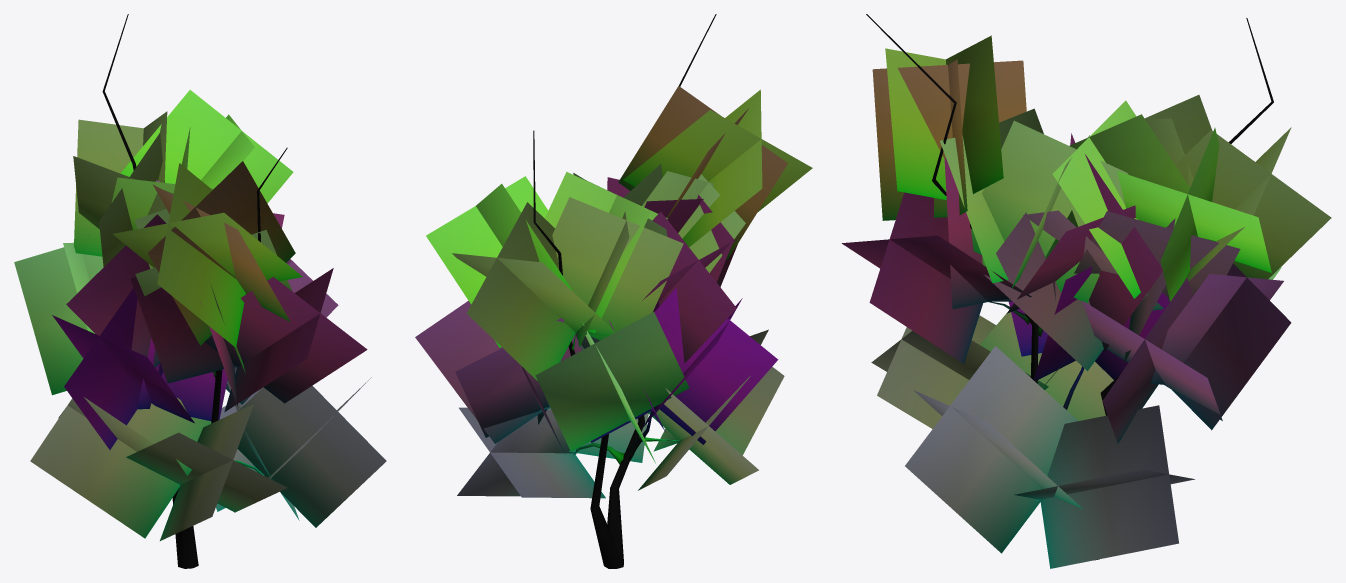
File: URP_P12_Tree_15_LOD_3.fbx
3 renders of one model, left to right at view 1: azimuth 30°, elevation 25°; view 2: azimuth 150°, elevation 25°; view 3: azimuth 270°, elevation 25°, orthographic. The views are drawn at different scales.
Parts seen in each view (by area): view 1: Tree_15_LOD_3; view 2: Tree_15_LOD_3; view 3: Tree_15_LOD_3.
Part boxes in pixels (x1,y1,x2,y2): Tree_15_LOD_3: (14,14,386,568); Tree_15_LOD_3: (415,14,812,568); Tree_15_LOD_3: (842,14,1331,568).
Bounding box in the file's own units: 174 × 266 × 217.
